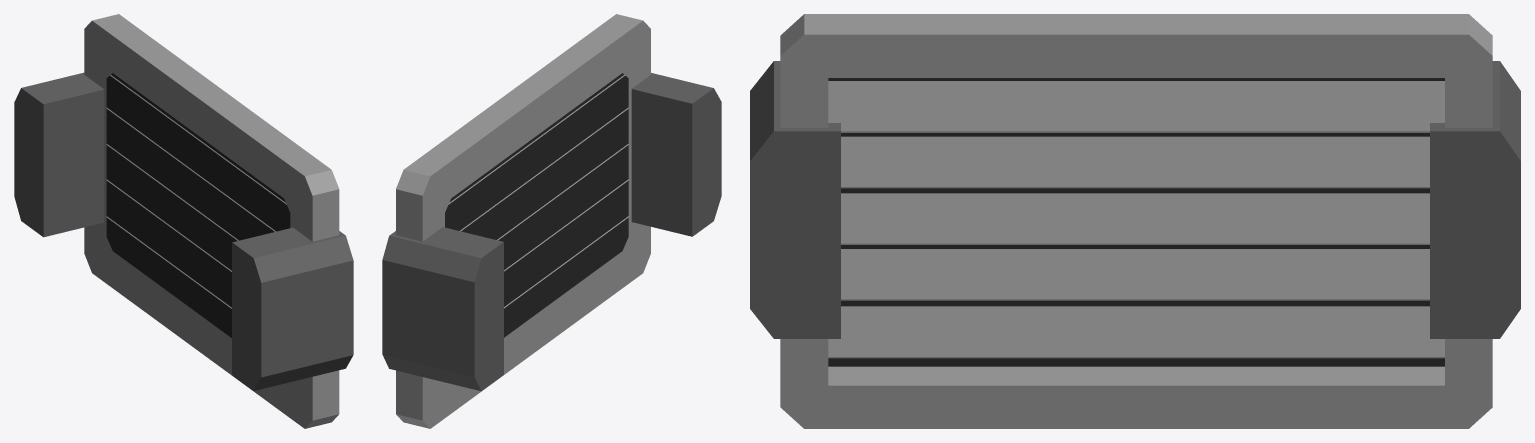
Rendered from vents_A_exit.FBX.
The picture shows the model from 3 angles, left to right: view 1: azimuth 30°, elevation 25°; view 2: azimuth 150°, elevation 25°; view 3: azimuth 270°, elevation 25°; orthographic projection. The views are drawn at different scales.
Parts seen in each view (by area): view 1: vents_A_exit; view 2: vents_A_exit; view 3: vents_A_exit.
Boxes of the visible parts, bbox=[...] form: vents_A_exit: bbox=[14, 14, 353, 428]; vents_A_exit: bbox=[382, 14, 721, 428]; vents_A_exit: bbox=[750, 14, 1520, 428].
Bounding box in the file's own units: 7.38 × 19.3 × 34.19.
